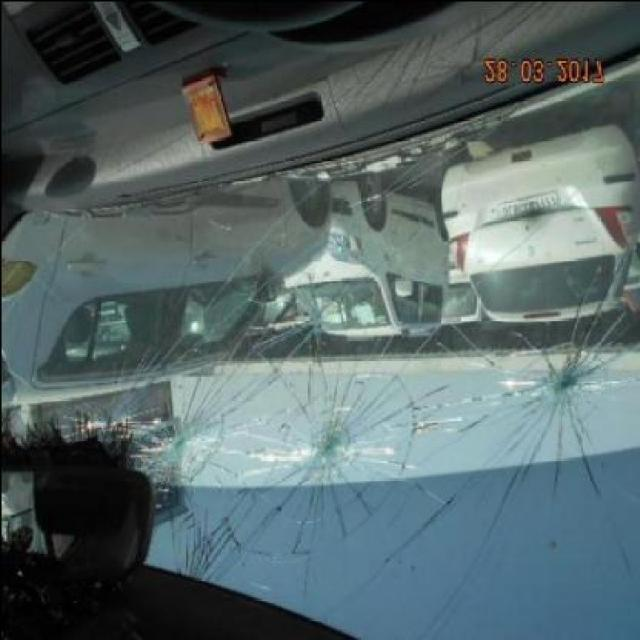damage: (255, 408, 385, 519), (497, 333, 612, 443), (141, 401, 223, 487)
